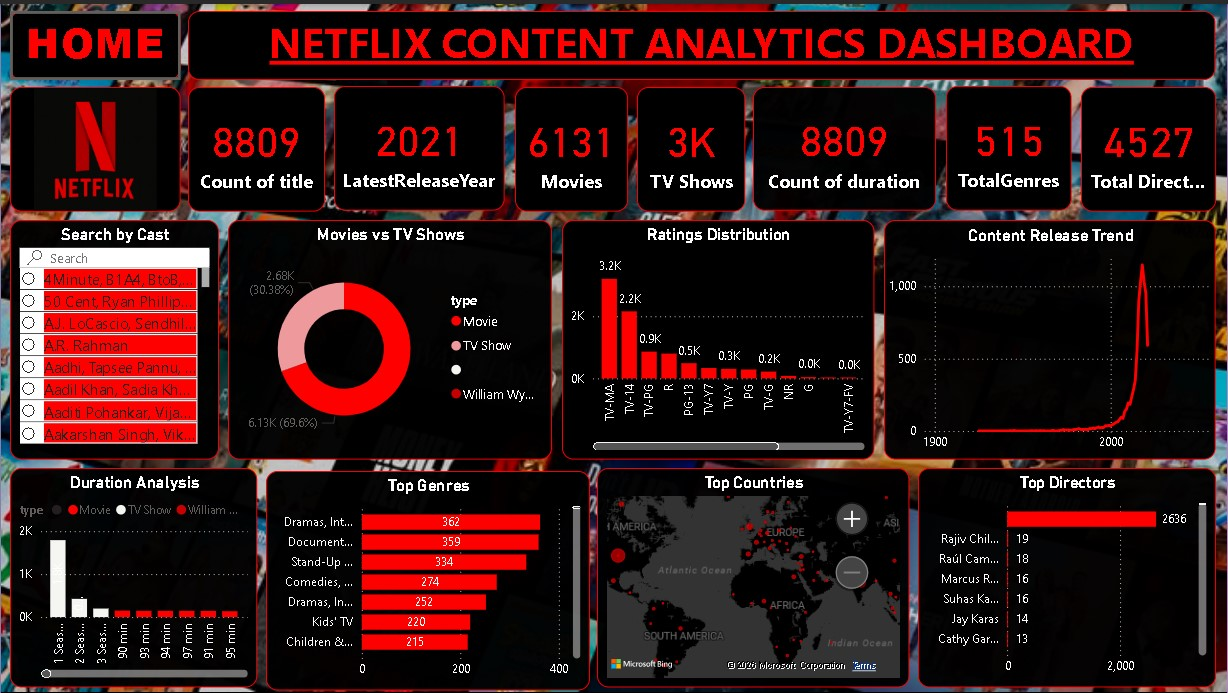

The dashboard page shown, as its layout file describes it:
{"tool":"powerbi","page":{"name":"Cotet","canvas":[1280,720],"ordinal":1},"visuals":[{"type":"card","fields":{"Values":["CountNonNull(netflix_titles.title)"]},"box":[195.4,86.9,142.9,130.3],"z":0},{"type":"card","fields":{"Values":["netflix_titles.LatestReleaseYear"]},"box":[347.4,85.7,178.3,130.3],"z":1000},{"type":"card","fields":{"Values":["netflix_titles.TotalGenres"]},"box":[986.3,85.7,131.4,130.3],"z":2000},{"type":"card","fields":{"Values":["netflix_titles.Total Movies"]},"box":[536,86.9,117.7,130.3],"z":3000},{"type":"card","title":"TV Shows","fields":{"Values":["netflix_titles.Total_TV_Shows"]},"box":[664,86.9,113.1,130.3],"z":4000},{"type":"donutChart","title":"Movies vs TV Shows","fields":{"Y":["CountNonNull(netflix_titles.show_id)"],"Category":["netflix_titles.type"]},"box":[236.6,225.1,338.3,250.3],"z":5000},{"type":"clusteredColumnChart","title":"Ratings Distribution","fields":{"Category":["netflix_titles.rating"],"Y":["CountNonNull(netflix_titles.show_id)"]},"box":[585.1,225.1,325.7,250.3],"z":6000},{"type":"lineChart","title":"Content Release Trend","fields":{"Category":["netflix_titles.release_year"],"Y":["CountNonNull(netflix_titles.show_id)"]},"box":[921.1,225.1,346.3,250.3],"z":7000},{"type":"textbox","box":[195.4,6.9,1072,72],"z":8000},{"type":"clusteredBarChart","title":"Top Genres","fields":{"Y":["CountNonNull(netflix_titles.show_id)"],"Category":["netflix_titles.listed_in"]},"box":[276.6,486.9,338.3,228.6],"z":9000},{"type":"card","fields":{"Values":["netflix_titles.TotalDirectors"]},"box":[1126.9,86.9,140.6,130.3],"z":10000},{"type":"map","title":"Top Countries","fields":{"Category":["netflix_titles.country"],"Size":["CountNonNull(netflix_titles.show_id)"]},"box":[621.7,484.6,325.7,228.6],"z":11000},{"type":"clusteredBarChart","title":"Top Directors","fields":{"Category":["netflix_titles.director"],"Y":["CountNonNull(netflix_titles.title)"]},"box":[956.6,484.6,310.9,228.6],"z":12000},{"type":"columnChart","title":"Duration Analysis","fields":{"Category":["netflix_titles.duration"],"Y":["CountNonNull(netflix_titles.show_id)"],"Series":["netflix_titles.type"]},"box":[9.1,484.6,258.3,228.6],"z":13000},{"type":"listSlicer","title":"Search by Cast","fields":{"Values":["netflix_titles.cast"]},"box":[9.1,225.1,218.3,250.3],"z":14000},{"type":"card","fields":{"Values":["CountNonNull(netflix_titles.duration)"]},"box":[785.1,86.9,190.9,129.1],"z":15000},{"type":"image","box":[9.1,86.9,178.3,130.3],"z":16000},{"type":"textbox","box":[9.1,6.9,178.3,72],"z":17000},{"type":"actionButton","box":[9.1,6.9,178.3,72],"z":18000}]}

Visuals, with their boxes in screenshot pixels (x1, y1, x2, y2), scaled from the page's 1280x720 canvas onto the 1228x693 screenshot:
card - CountNonNull(netflix_titles.title): [187, 84, 325, 209]
card - netflix_titles.LatestReleaseYear: [333, 82, 504, 208]
card - netflix_titles.TotalGenres: [946, 82, 1072, 208]
card - netflix_titles.Total Movies: [514, 84, 627, 209]
"TV Shows" card: [637, 84, 746, 209]
"Movies vs TV Shows" donutChart: [227, 217, 552, 458]
"Ratings Distribution" clusteredColumnChart: [561, 217, 874, 458]
"Content Release Trend" lineChart: [884, 217, 1216, 458]
textbox: [187, 7, 1216, 76]
"Top Genres" clusteredBarChart: [265, 469, 590, 689]
card - netflix_titles.TotalDirectors: [1081, 84, 1216, 209]
"Top Countries" map: [596, 466, 909, 686]
"Top Directors" clusteredBarChart: [918, 466, 1216, 686]
"Duration Analysis" columnChart: [9, 466, 257, 686]
"Search by Cast" listSlicer: [9, 217, 218, 458]
card - CountNonNull(netflix_titles.duration): [753, 84, 936, 208]
image: [9, 84, 180, 209]
textbox: [9, 7, 180, 76]
actionButton: [9, 7, 180, 76]
